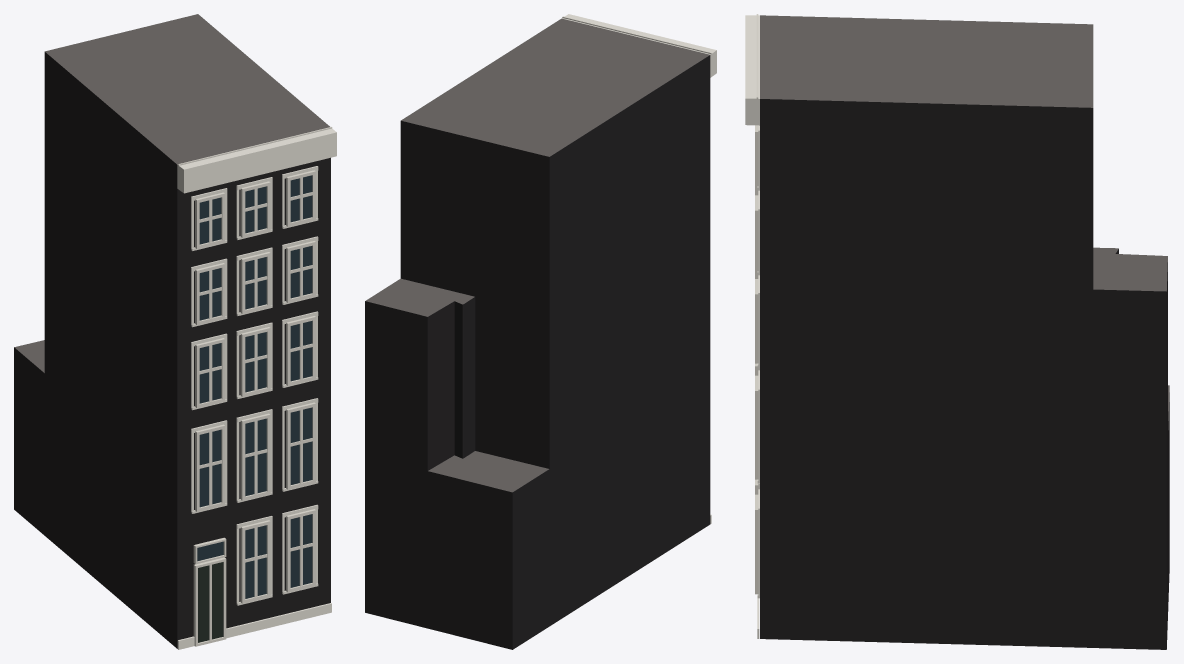
3 views of the same model, side by side, from view 1: azimuth 30°, elevation 25°; view 2: azimuth 150°, elevation 25°; view 3: azimuth 270°, elevation 25° (orthographic). The views are drawn at different scales.
Visible parts, largest first — view 1: spec-0363100012177189; view 2: spec-0363100012177189; view 3: spec-0363100012177189.
Boxes of the visible parts, x1,y1,x2,y2 form: spec-0363100012177189: (14,14,336,649); spec-0363100012177189: (365,14,716,649); spec-0363100012177189: (745,14,1169,649).
Bounding box in the file's own units: 6.09 × 16.27 × 11.56.
